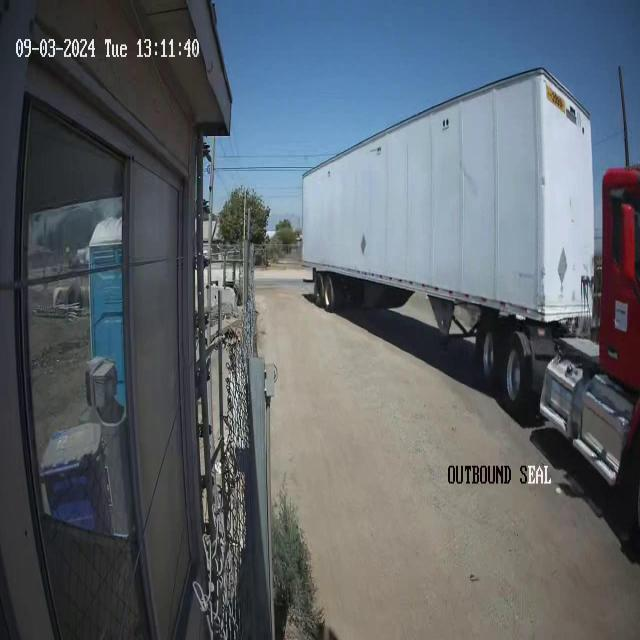TRUCK_IN: (300, 66, 595, 330)
